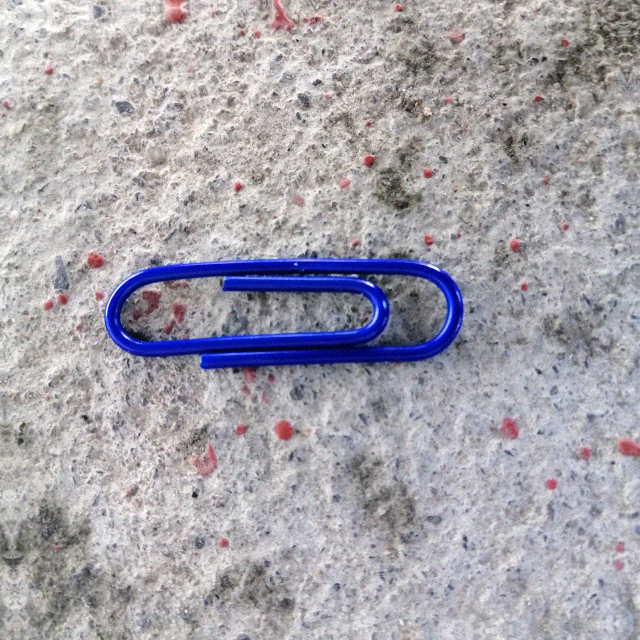pin: (108, 251, 459, 371)
